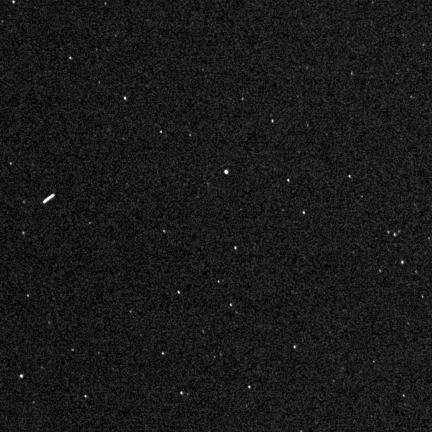blob: (225, 170, 229, 174), (20, 375, 24, 379), (235, 246, 238, 251), (124, 97, 127, 101)
